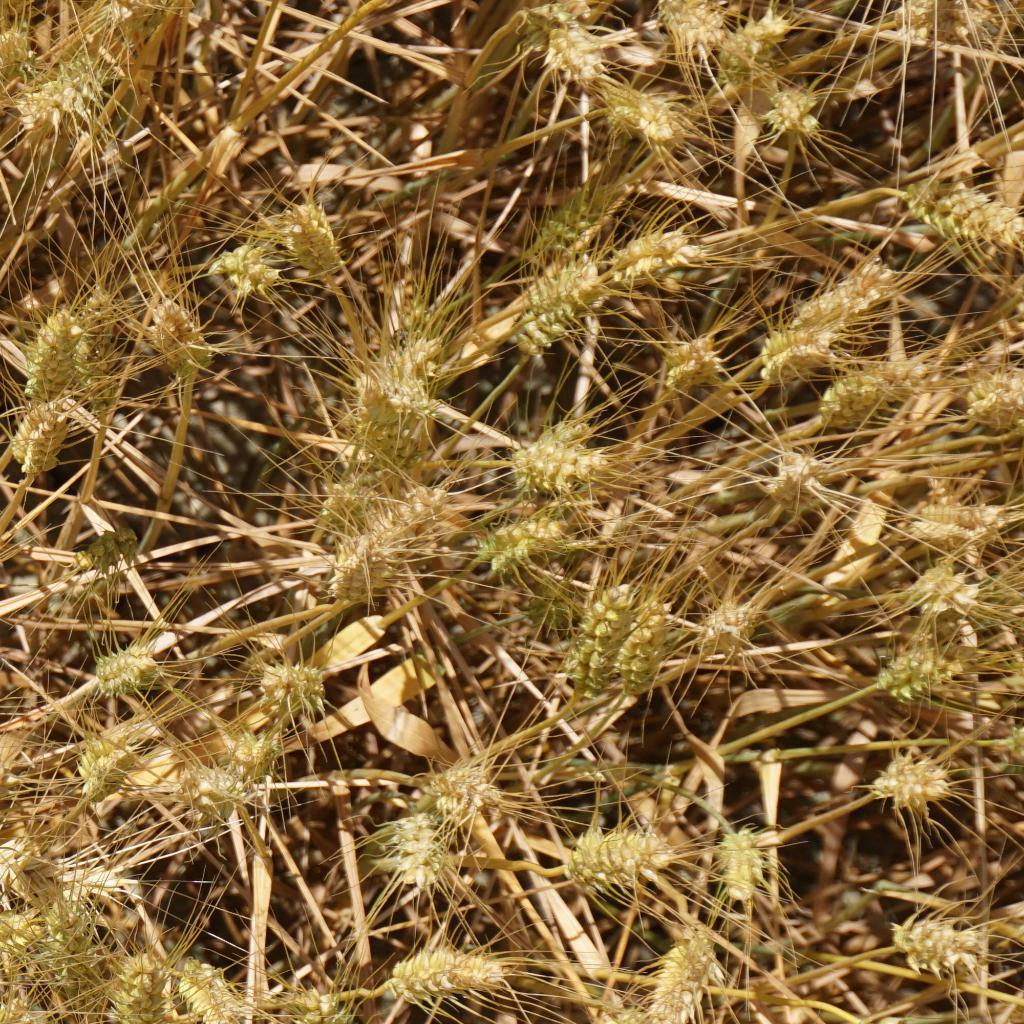0-0: (898, 160, 1022, 251), (567, 820, 673, 905), (389, 937, 513, 1005), (279, 200, 357, 304), (822, 363, 940, 431), (33, 884, 102, 988), (348, 372, 430, 458), (520, 272, 600, 359), (324, 520, 415, 595), (640, 937, 720, 1022), (472, 504, 571, 572), (600, 229, 713, 288), (888, 916, 991, 978), (792, 263, 883, 333), (616, 594, 678, 696), (76, 288, 129, 407), (714, 15, 799, 84), (922, 483, 998, 557), (24, 308, 82, 404), (657, 323, 727, 397), (764, 445, 833, 520), (244, 659, 333, 717), (172, 954, 245, 1024), (376, 466, 443, 541), (764, 317, 834, 388), (861, 756, 948, 813), (103, 947, 167, 1024), (372, 316, 429, 402), (172, 751, 243, 820), (499, 436, 593, 488), (87, 636, 162, 701), (541, 11, 611, 80), (74, 737, 141, 809), (577, 587, 623, 690), (598, 76, 666, 143), (392, 816, 451, 893), (898, 0, 986, 51), (719, 821, 775, 901), (152, 302, 215, 373), (647, 0, 715, 65), (422, 764, 507, 816), (5, 397, 68, 467), (19, 89, 90, 151), (71, 515, 139, 579), (876, 641, 948, 701), (752, 82, 830, 133), (681, 609, 760, 659), (537, 190, 593, 254), (969, 367, 1024, 430), (318, 466, 382, 520), (515, 583, 573, 638), (919, 565, 979, 614), (221, 247, 269, 303), (223, 734, 288, 775), (287, 979, 345, 1024), (0, 16, 29, 95), (589, 995, 663, 1024), (0, 892, 35, 952), (0, 999, 32, 1024)
